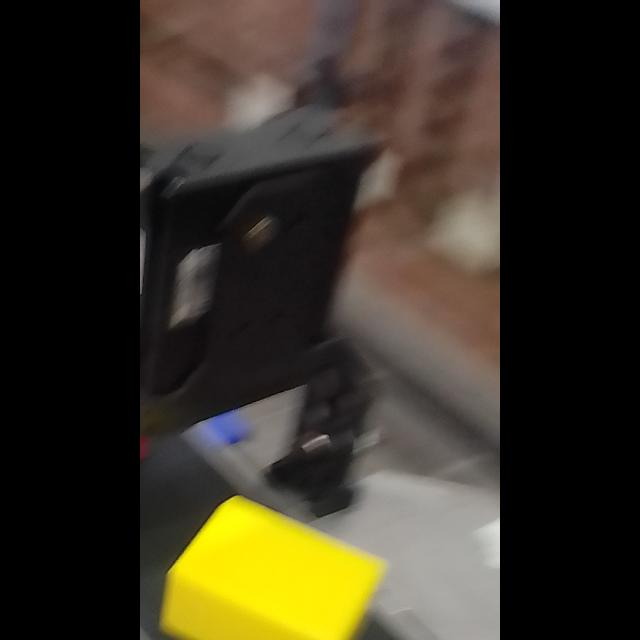redBox: (140, 303, 168, 503)
yellowBox: (143, 488, 389, 640)
